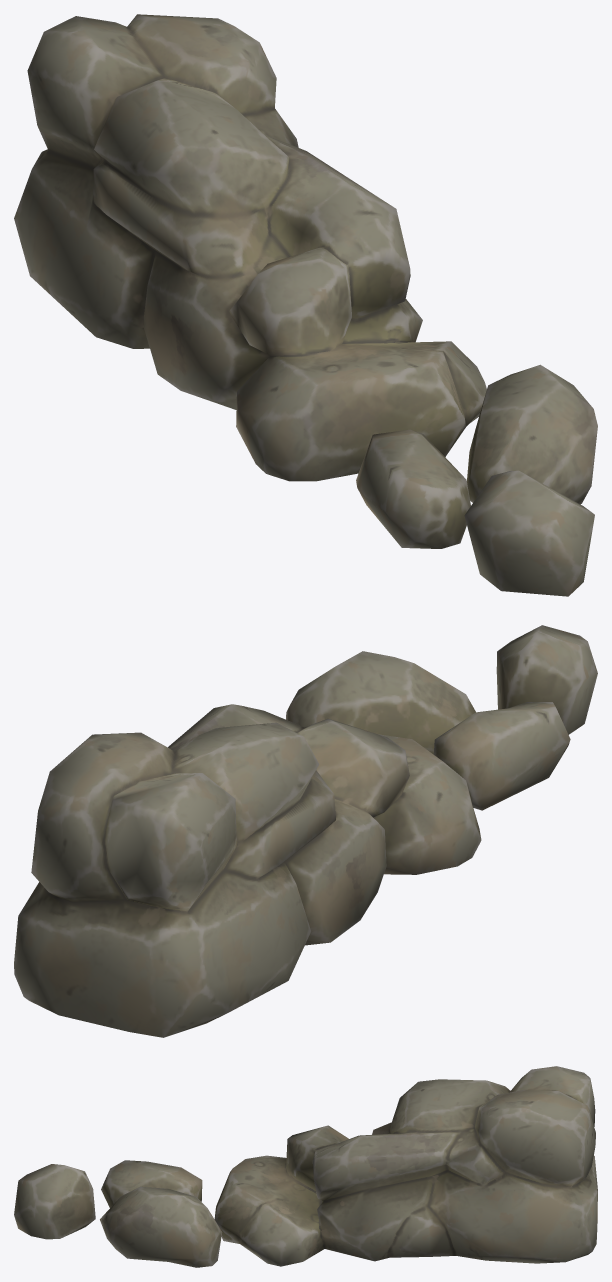
File: GN_AiQiang_03.fbx
3 renders of one model, top to bottom at view 1: azimuth 30°, elevation 25°; view 2: azimuth 150°, elevation 25°; view 3: azimuth 270°, elevation 25°, orthographic. The views are drawn at different scales.
Parts seen in each view (by area): view 1: GN_AiQiang_03; view 2: GN_AiQiang_03; view 3: GN_AiQiang_03.
Boxes of the visible parts, x1,y1,x2,y2 form: GN_AiQiang_03: (14,14,597,596); GN_AiQiang_03: (14,625,597,1037); GN_AiQiang_03: (14,1066,597,1267).
Bounding box in the file's own units: 66.16 × 60.53 × 216.
